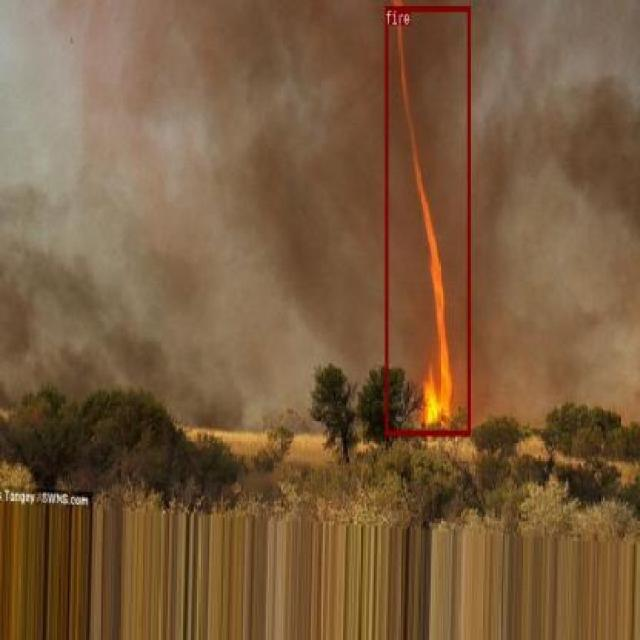fire: (384, 4, 470, 436)
